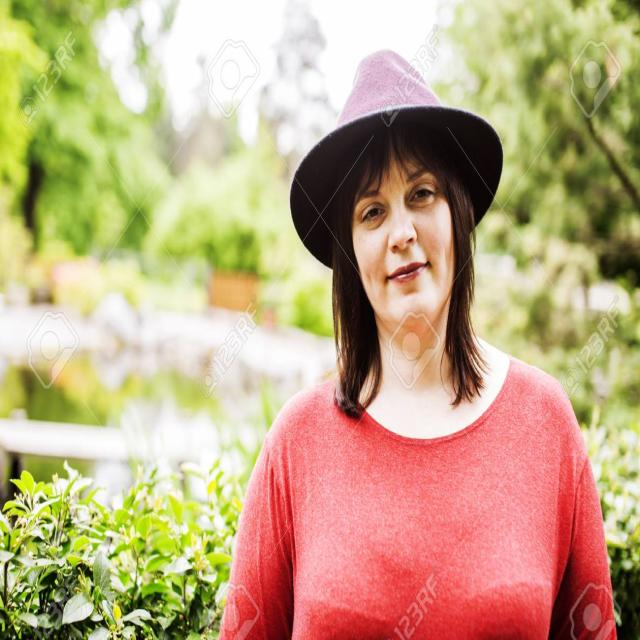hat: (289, 52, 503, 327)
